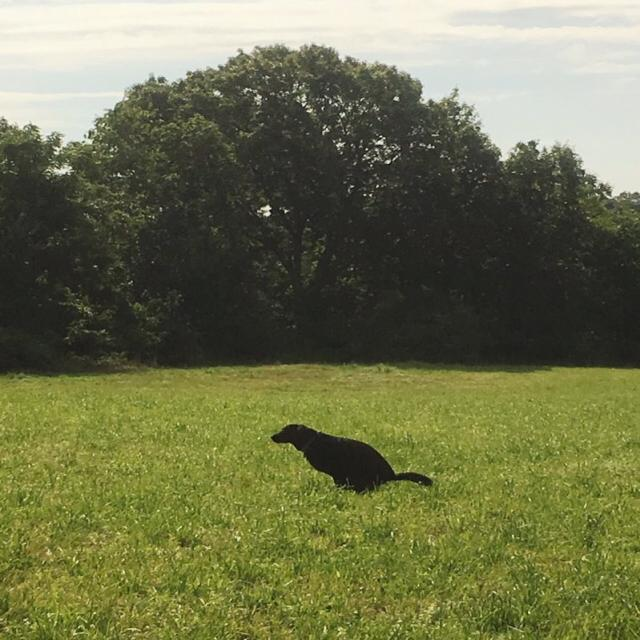squatting: (264, 416, 440, 496)
